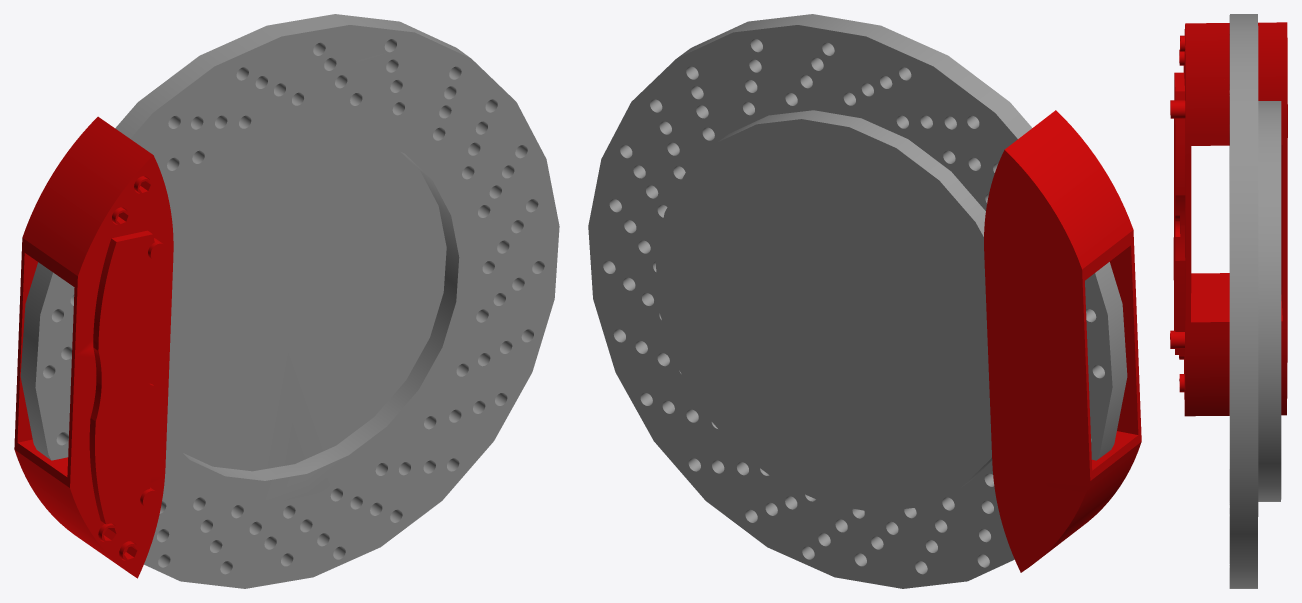
The model's file is brembo-gt-brakes.glb.
The picture shows the model from 3 angles, left to right: view 1: azimuth 30°, elevation 25°; view 2: azimuth 150°, elevation 25°; view 3: azimuth 270°, elevation 25°; orthographic projection. The views are drawn at different scales.
Visible parts, largest first — view 1: Brembo_380mm_Slotted_Rotor, Mesh_Caliper_FL, Mesh_Caliper_FL_1; view 2: Brembo_380mm_Slotted_Rotor, Mesh_Caliper_FL; view 3: Brembo_380mm_Slotted_Rotor, Mesh_Caliper_FL, Mesh_Caliper_FL_1.
Boxes of the visible parts, left/top/right/bottom form: Brembo_380mm_Slotted_Rotor: left=20, top=14, right=559, bottom=588; Mesh_Caliper_FL: left=14, top=116, right=173, bottom=578; Mesh_Caliper_FL_1: left=102, top=297, right=147, bottom=469; Brembo_380mm_Slotted_Rotor: left=588, top=14, right=1127, bottom=588; Mesh_Caliper_FL: left=984, top=110, right=1141, bottom=572; Brembo_380mm_Slotted_Rotor: left=1229, top=14, right=1281, bottom=588; Mesh_Caliper_FL: left=1170, top=22, right=1287, bottom=416; Mesh_Caliper_FL_1: left=1173, top=132, right=1174, bottom=293.
Size of the model in its own units: 0.4504 by 0.4504 by 0.0918.
